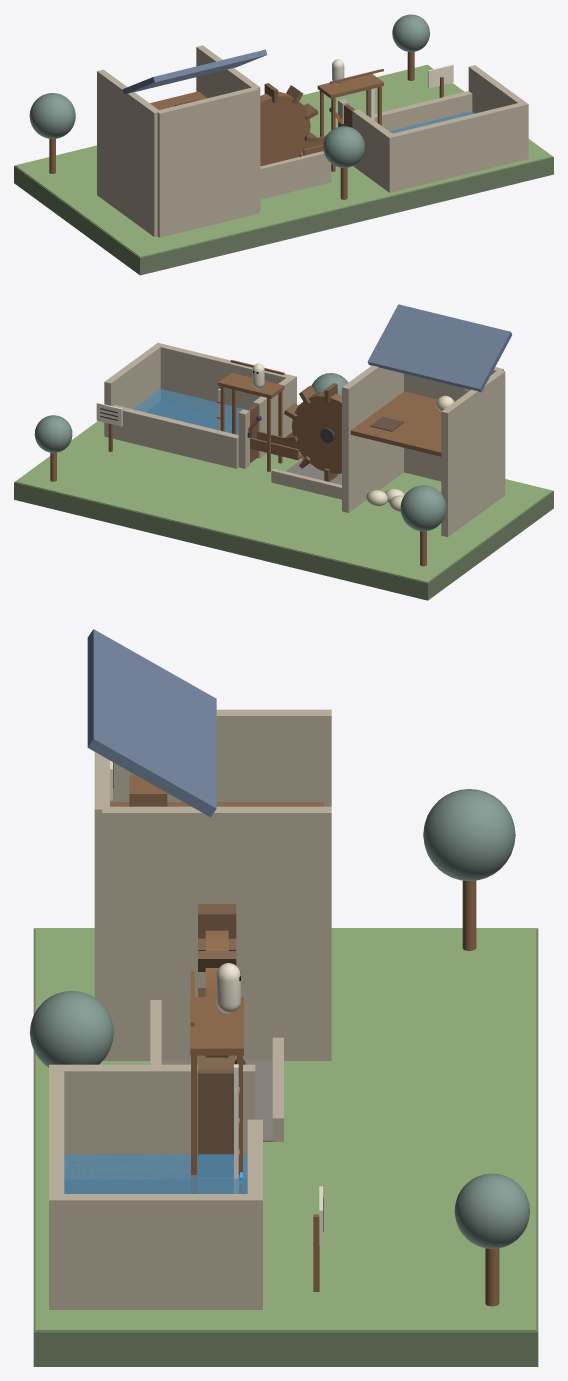
The model's file is level_02.obj.
The picture shows the model from 3 angles, top to bottom: view 1: azimuth 30°, elevation 25°; view 2: azimuth 150°, elevation 25°; view 3: azimuth 270°, elevation 25°; orthographic projection. The views are drawn at different scales.
Visible parts, largest first — view 1: _set, wheel, pit, sluice, dam_notice; view 2: _set, wheel, _program, sluice, pit, dam_notice; view 3: _set, _program, sluice, pit, wheel, gate, _player_ref, loft.
Boxes of the visible parts, <box> form: _set: <box>14,14,553,275</box>; wheel: <box>260,83,318,166</box>; pit: <box>260,151,331,199</box>; sluice: <box>317,69,383,171</box>; dam_notice: <box>428,64,453,97</box>; _set: <box>14,304,553,600</box>; wheel: <box>284,383,341,481</box>; _program: <box>133,388,246,434</box>; sluice: <box>218,360,284,471</box>; pit: <box>271,456,341,499</box>; dam_notice: <box>96,402,122,451</box>; _set: <box>29,629,538,1366</box>; _program: <box>64,1154,247,1193</box>; sluice: <box>190,971,243,1193</box>; pit: <box>150,1000,283,1141</box>; wheel: <box>198,904,236,1069</box>; gate: <box>198,1069,233,1154</box>; _player_ref: <box>216,963,240,1013</box>; loft: <box>129,774,167,806</box>.
Size of the model in its own units: 12.5 by 5.22 by 6.65.
